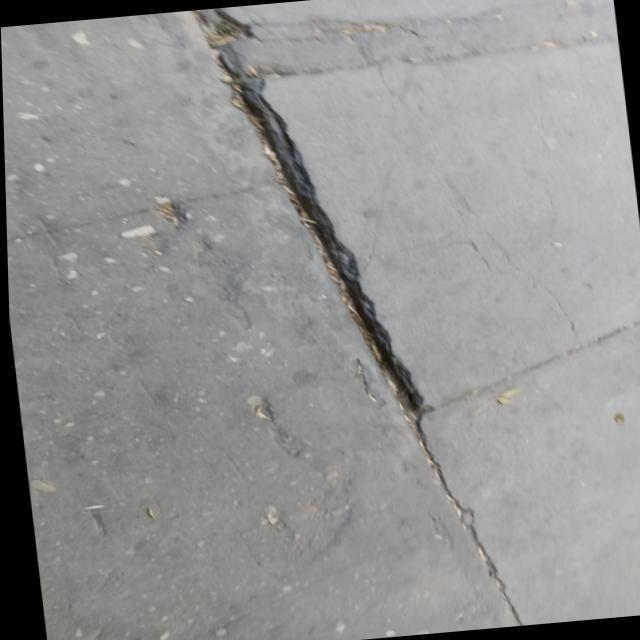hole: (180, 0, 432, 436)
